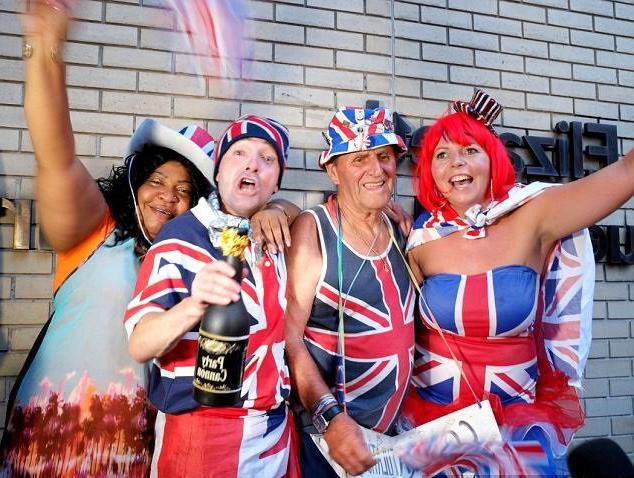Drunk: (219, 142, 278, 210), (425, 142, 489, 202), (337, 152, 393, 210), (136, 169, 187, 228)
